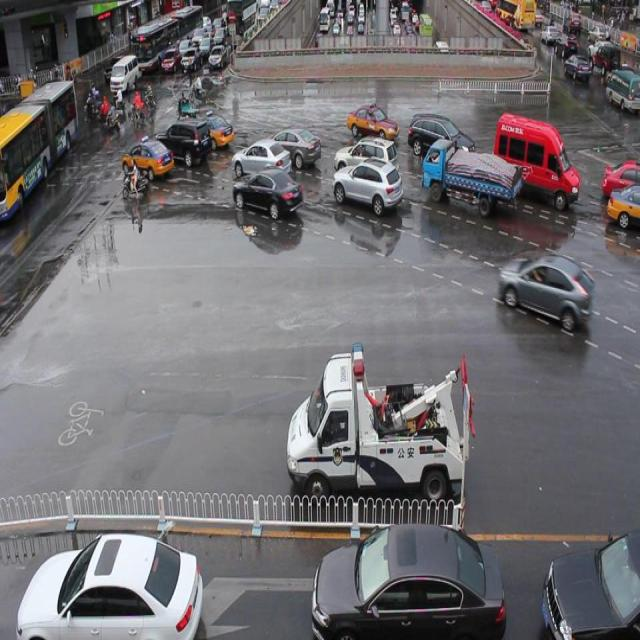bus: (288, 335, 476, 505), (424, 140, 520, 217)
car: (312, 526, 502, 640), (17, 532, 202, 640), (543, 533, 640, 640), (498, 251, 592, 331), (333, 160, 401, 215), (408, 108, 474, 160), (232, 170, 303, 216), (334, 136, 397, 186), (152, 119, 212, 168), (232, 138, 290, 180), (263, 126, 320, 166), (122, 141, 174, 181), (348, 100, 398, 136), (191, 112, 234, 150), (603, 154, 640, 197), (608, 180, 640, 227)
truck: (492, 107, 580, 202)
